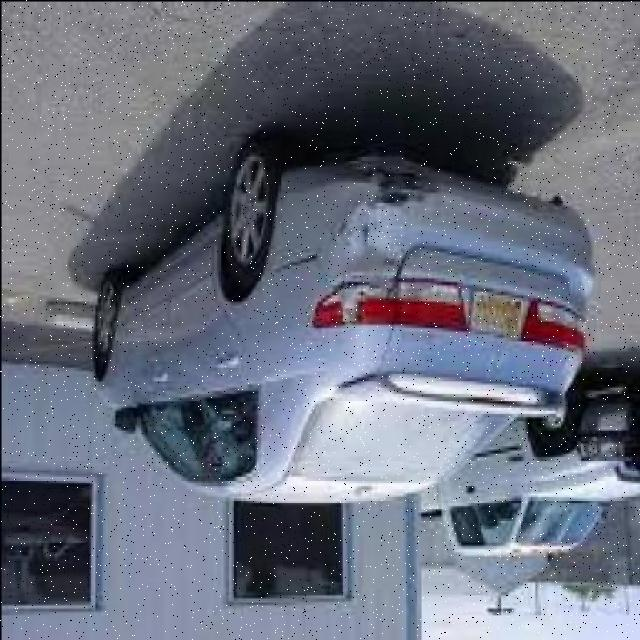damage: (325, 162, 435, 322)
